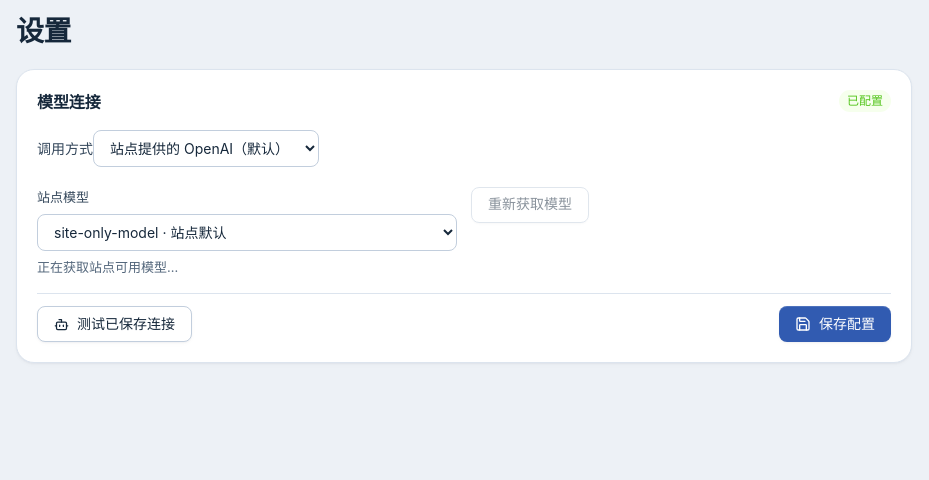
Test: does not copy the site default model into personal model selection when switching from server
Select "个人模型或本机桥接" in the dropdown labelled "调用方式" at (206, 148), box [93,130,319,167]
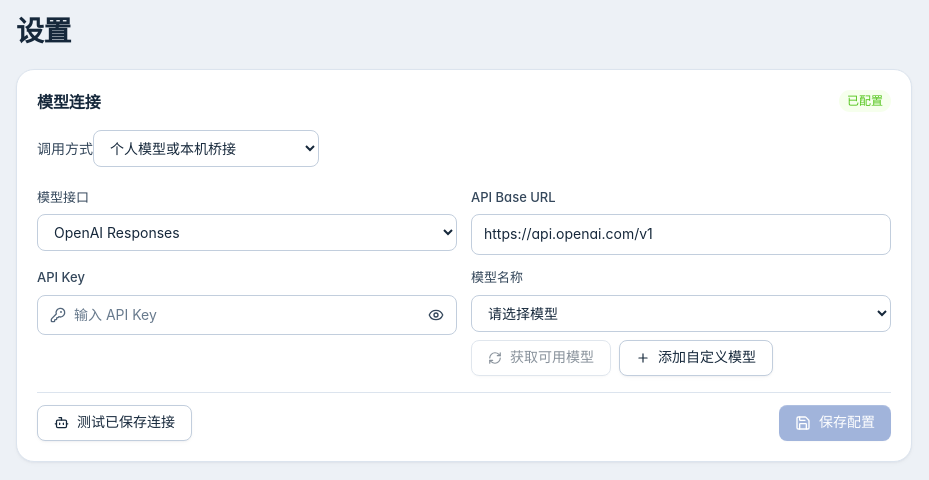
Expected: the dropdown labelled "模型名称" shows "请选择模型", [471,295,891,332]
